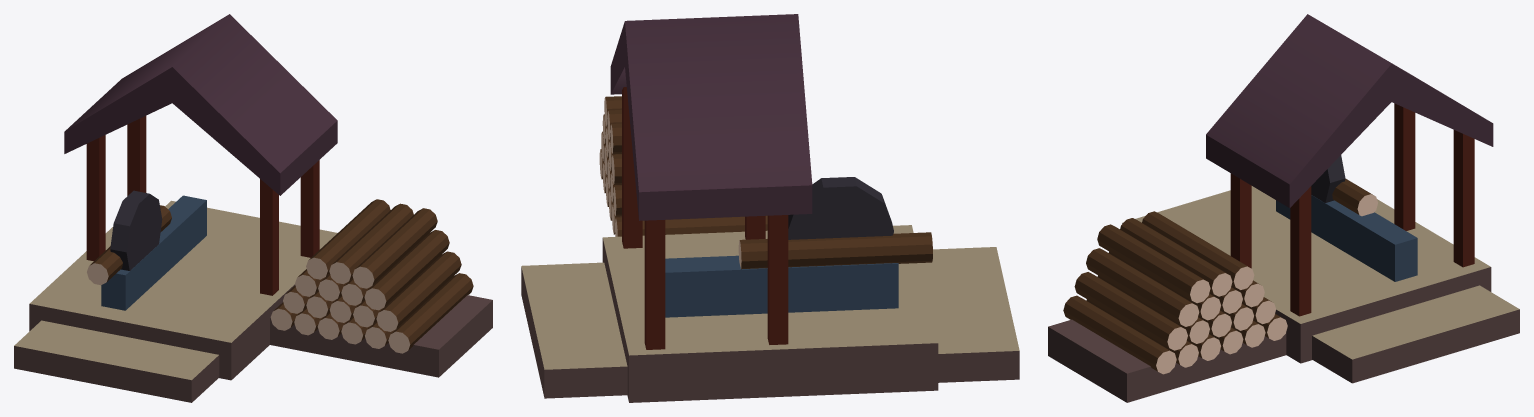
The model's file is Resource_Wood_001.fbx.
3 views of the same model, side by side, from view 1: azimuth 30°, elevation 25°; view 2: azimuth 150°, elevation 25°; view 3: azimuth 270°, elevation 25° (orthographic). The views are drawn at different scales.
Visible parts, largest first — view 1: Resource_Wood_001; view 2: Resource_Wood_001; view 3: Resource_Wood_001.
Boxes of the visible parts, box(x1,y1,x2,y2) form: Resource_Wood_001: box(14, 14, 492, 402); Resource_Wood_001: box(521, 14, 1019, 402); Resource_Wood_001: box(1048, 14, 1519, 402).
Size of the model in its own units: 630 by 383 by 610.
